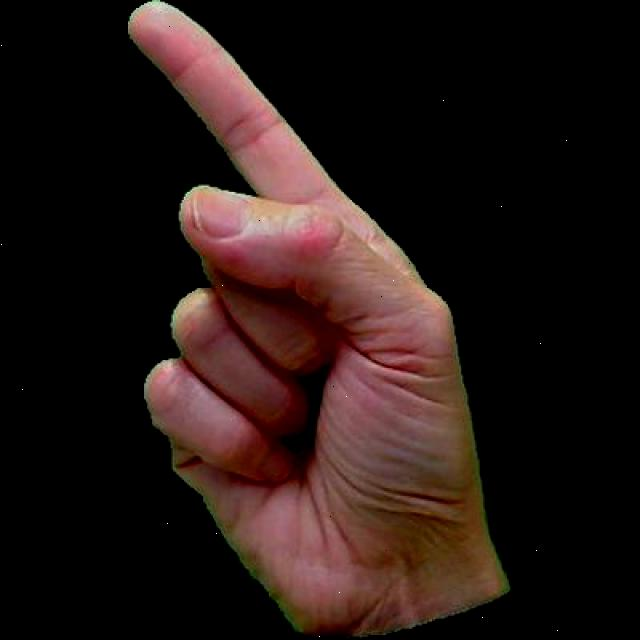z: (113, 0, 510, 637)
